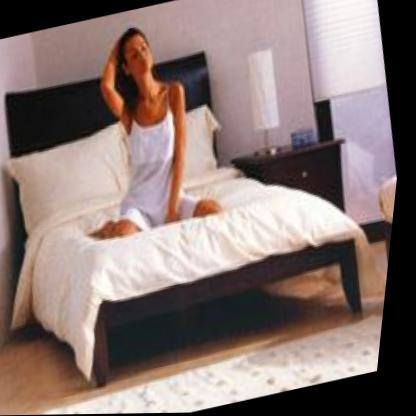Bed: (0, 18, 397, 402)
